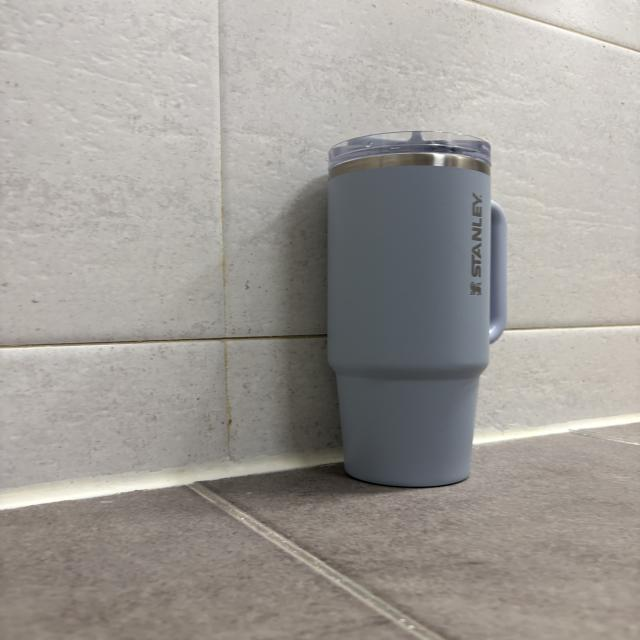waterbottle: (328, 130, 508, 488)
